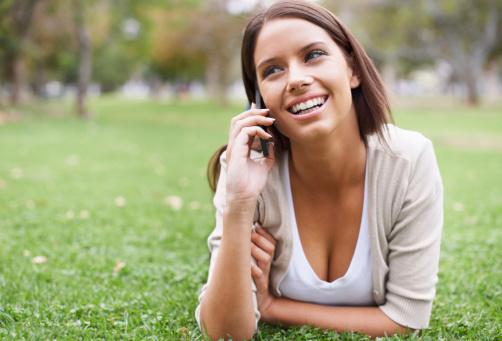deitado: (185, 0, 472, 317)
